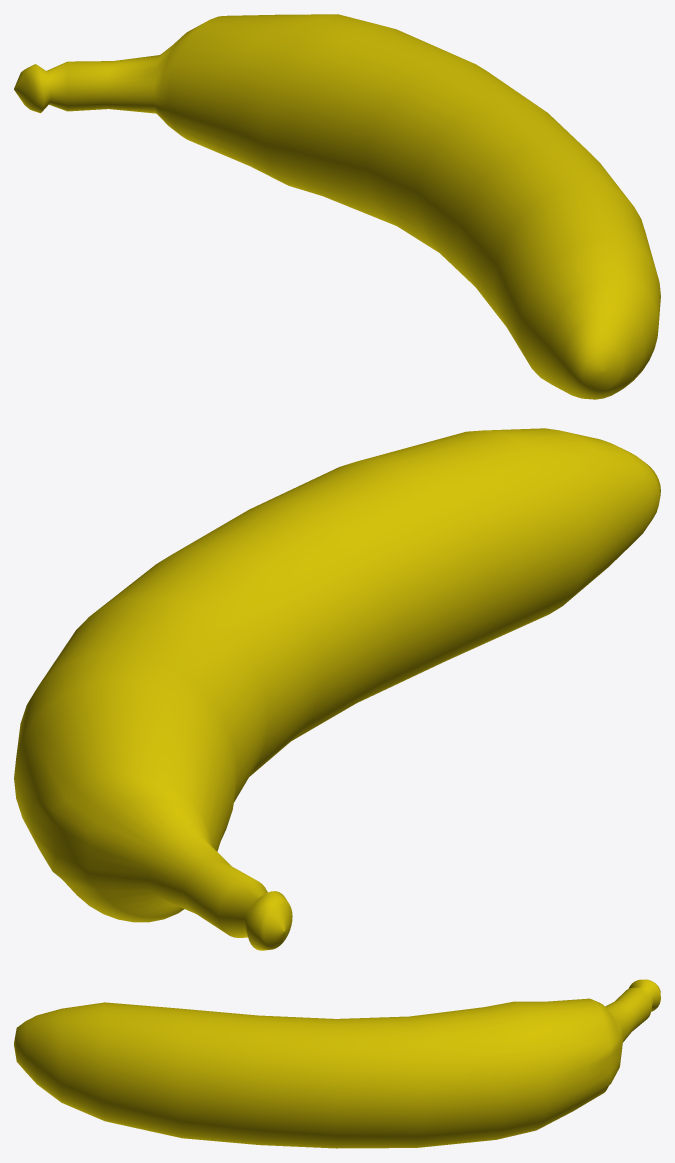
Rendered from banana_1.fbx.
3 renders of one model, top to bottom at view 1: azimuth 30°, elevation 25°; view 2: azimuth 150°, elevation 25°; view 3: azimuth 270°, elevation 25°, orthographic. The views are drawn at different scales.
Parts seen in each view (by area): view 1: banana; view 2: banana; view 3: banana.
Part boxes in pixels (x1=…): banana: x1=14, y1=14, x2=660, y2=399; banana: x1=14, y1=428, x2=660, y2=950; banana: x1=14, y1=979, x2=660, y2=1148.
Bounding box in the file's own units: 4.44 × 2.06 × 9.98.
